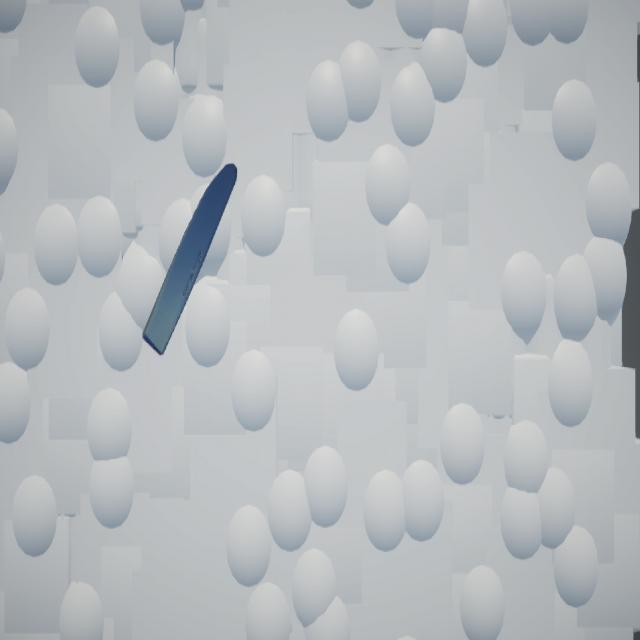top_knife: (143, 164, 238, 357)
